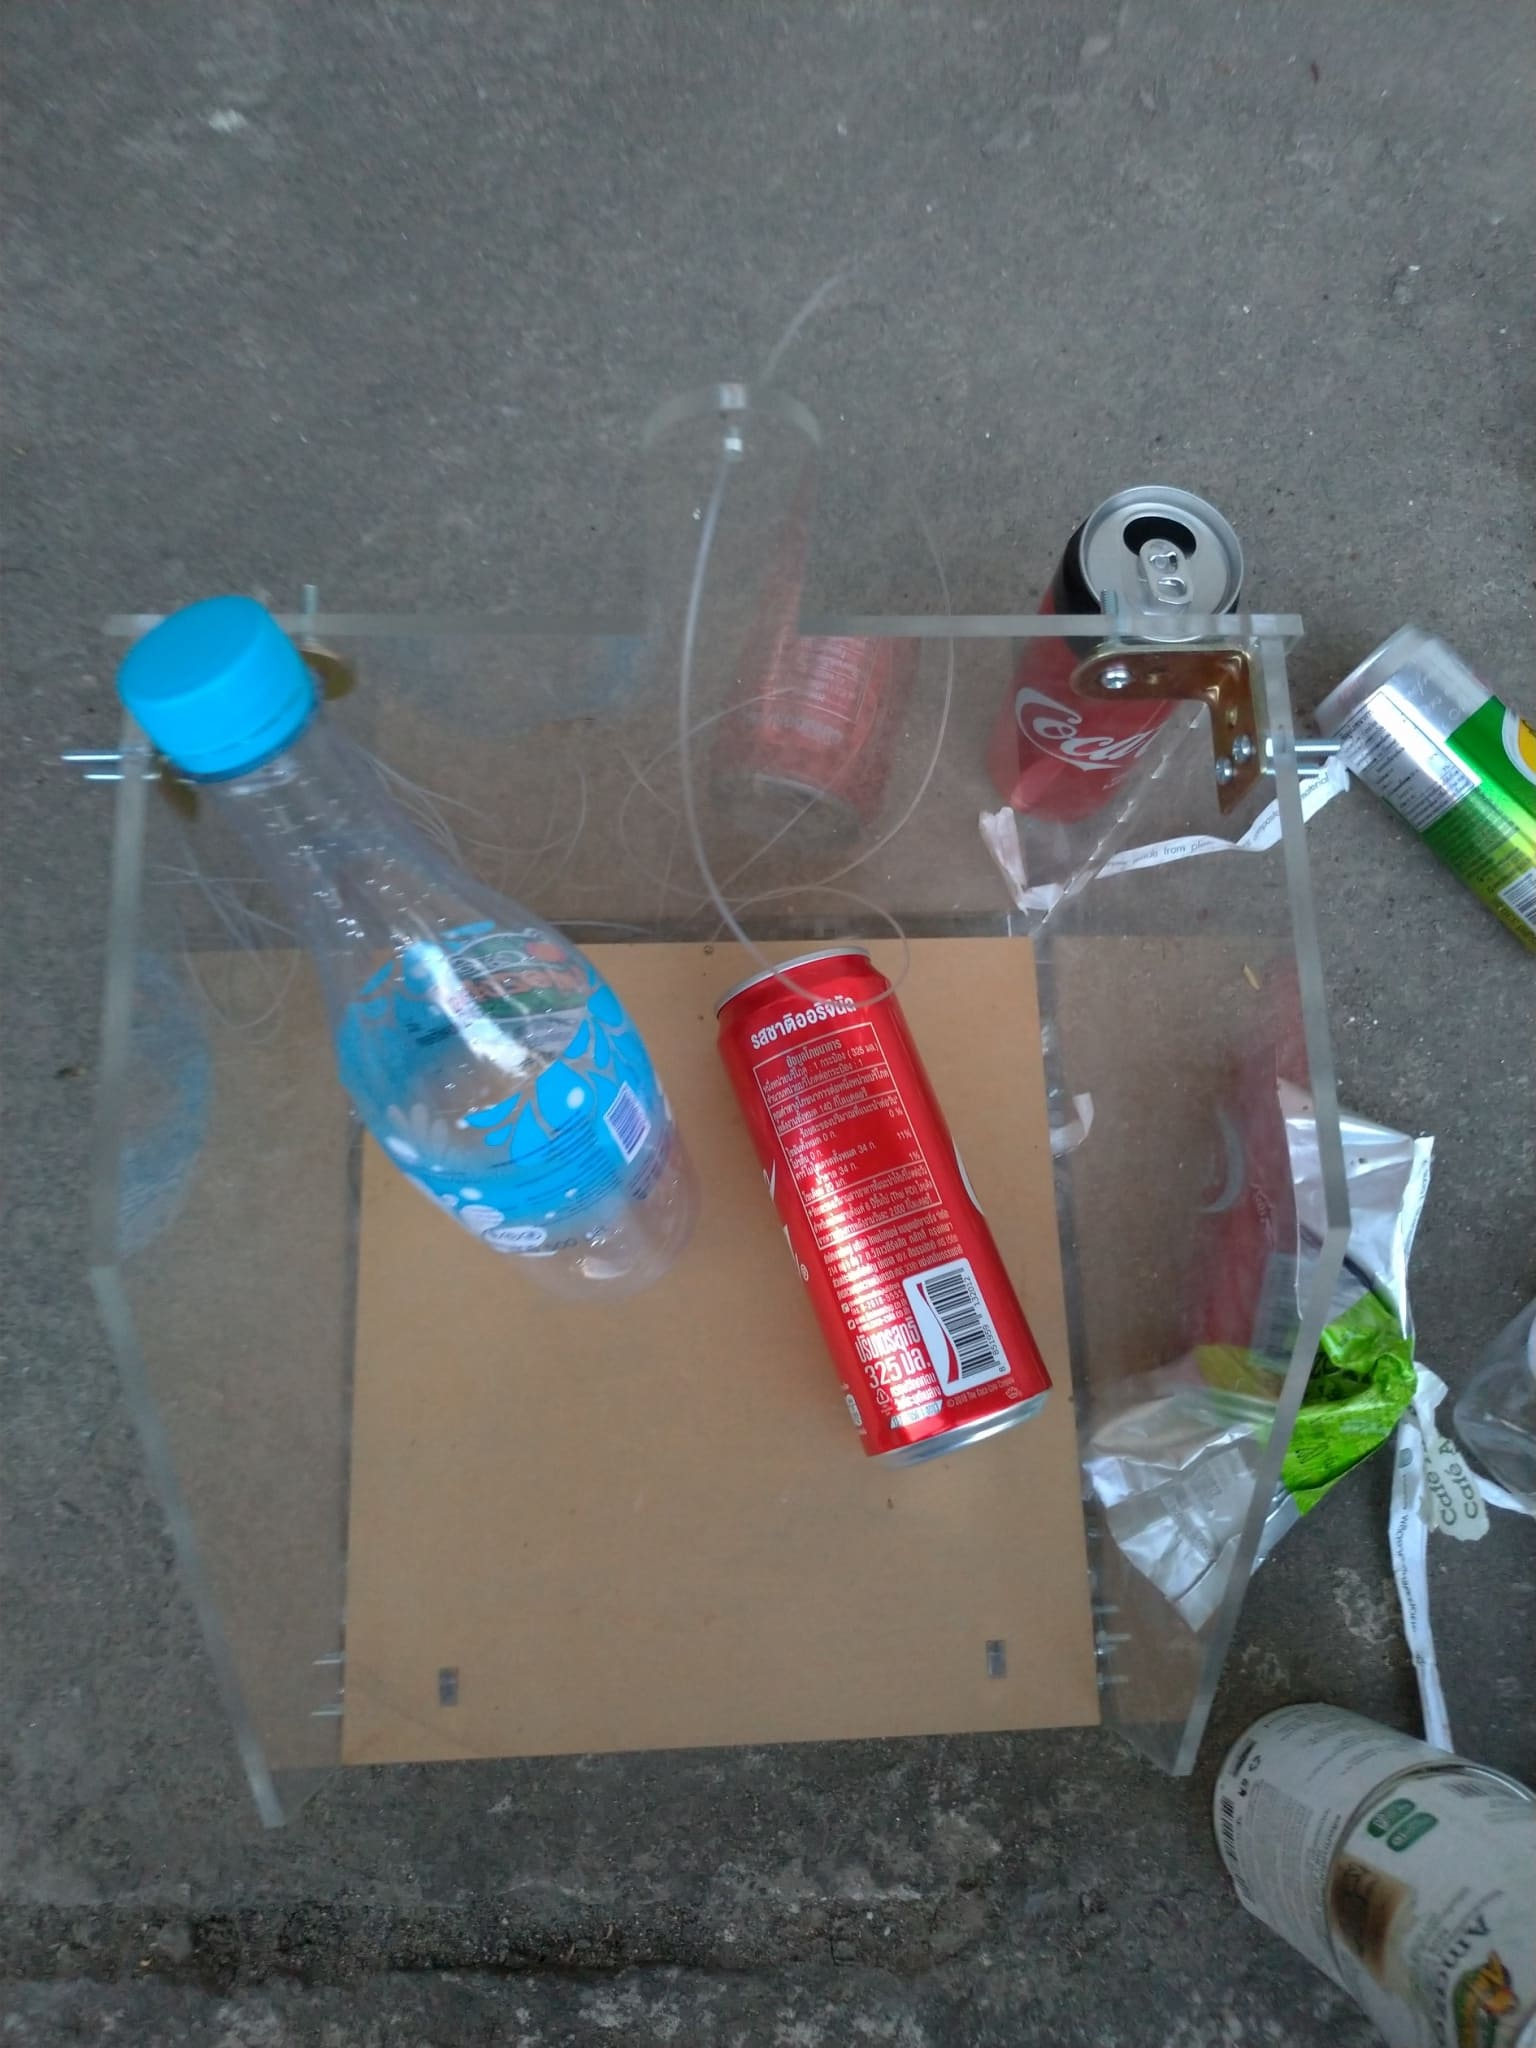AlCan: (718, 955, 1047, 1464), (1205, 1693, 1536, 2046), (1018, 477, 1244, 826), (1318, 632, 1536, 935)
Others: (1083, 1080, 1509, 1742)
PlasticBottle: (115, 590, 702, 1297)
